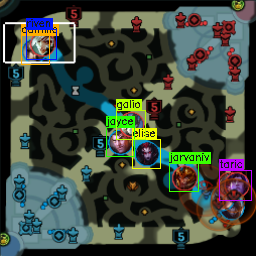aphelios: (218, 195, 243, 219)
camille: (22, 39, 44, 61)
elise: (135, 142, 158, 165)
galio: (119, 111, 143, 136)
jarvaniv: (171, 165, 195, 189)
jayce: (107, 129, 131, 154)
riven: (31, 31, 55, 56)
taric: (225, 172, 248, 197)
